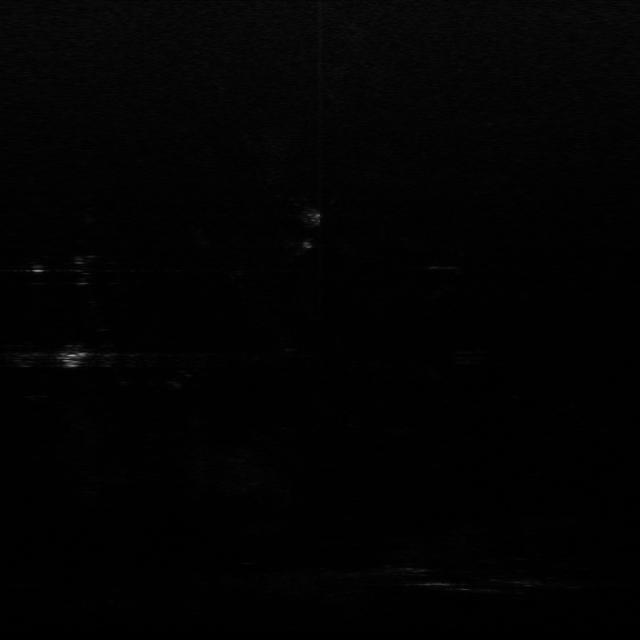rov: (56, 349, 93, 375)
